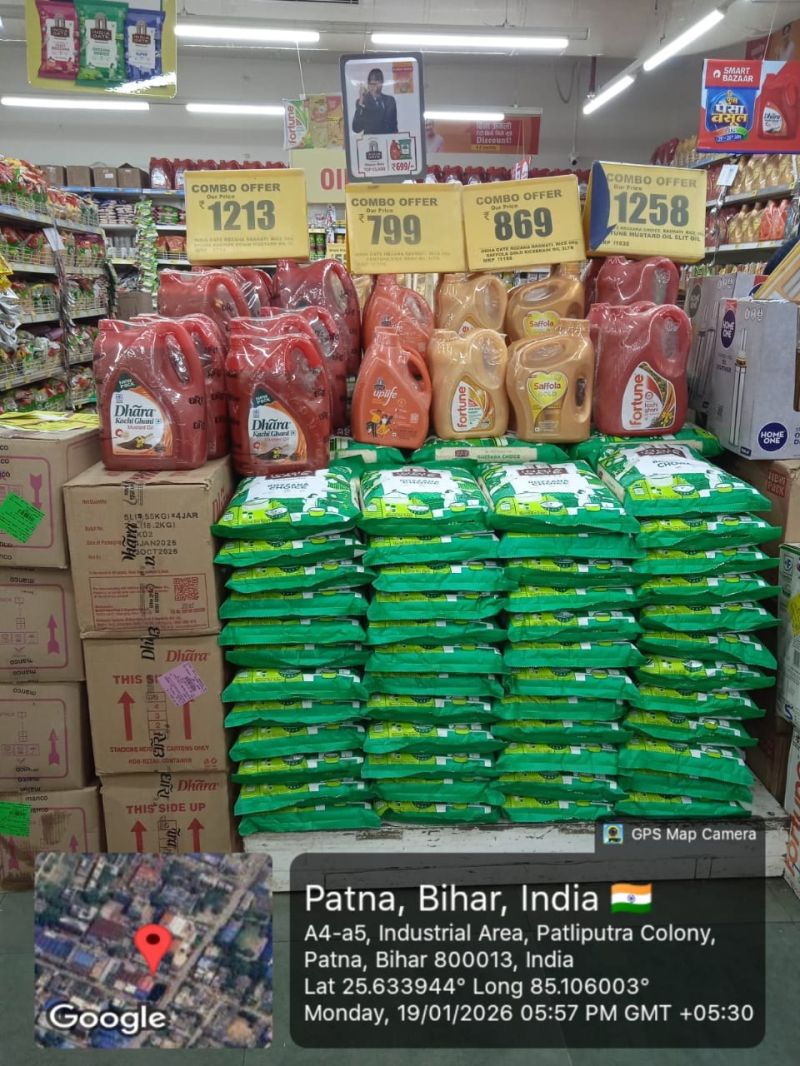other: (91, 289, 787, 843), (589, 300, 691, 414)
saffola: (0, 409, 248, 582), (484, 249, 606, 451), (427, 254, 506, 351), (451, 358, 507, 445)
